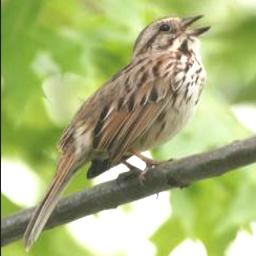Sparrow: (22, 9, 215, 252)
